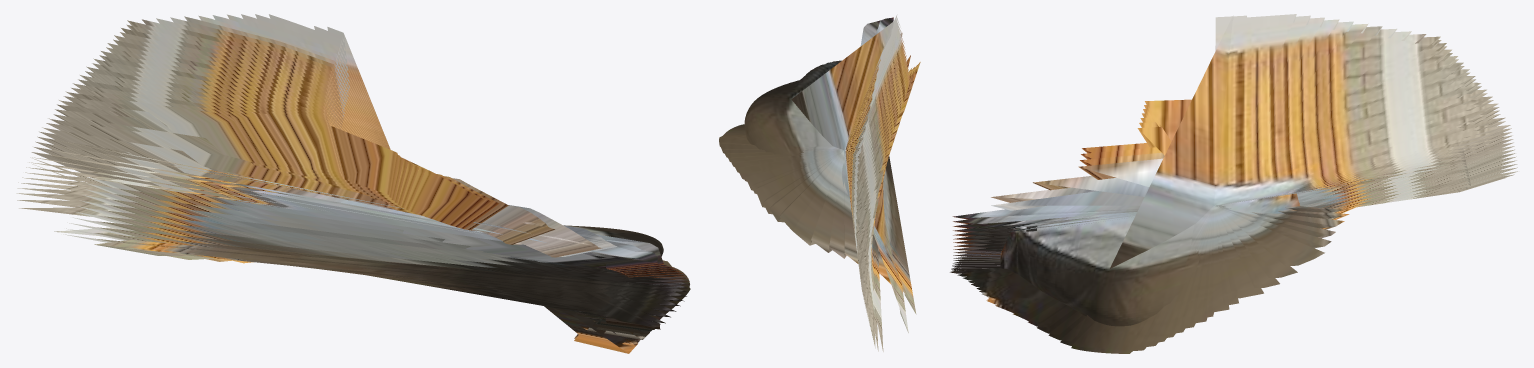
The model's file is school_hall.glb.
3 renders of one model, left to right at view 1: azimuth 30°, elevation 25°; view 2: azimuth 150°, elevation 25°; view 3: azimuth 270°, elevation 25°, orthographic. The views are drawn at different scales.
Parts seen in each view (by area): view 1: furniture_00; view 2: furniture_00; view 3: furniture_00.
Part boxes in pixels (x1,y1,x2,y2): furniture_00: [16, 14, 690, 353]; furniture_00: [719, 14, 920, 351]; furniture_00: [950, 14, 1517, 353].
Size of the model in its own units: 1.63 by 0.9589 by 2.2.
Materials: 1 (1 with a texture image).
